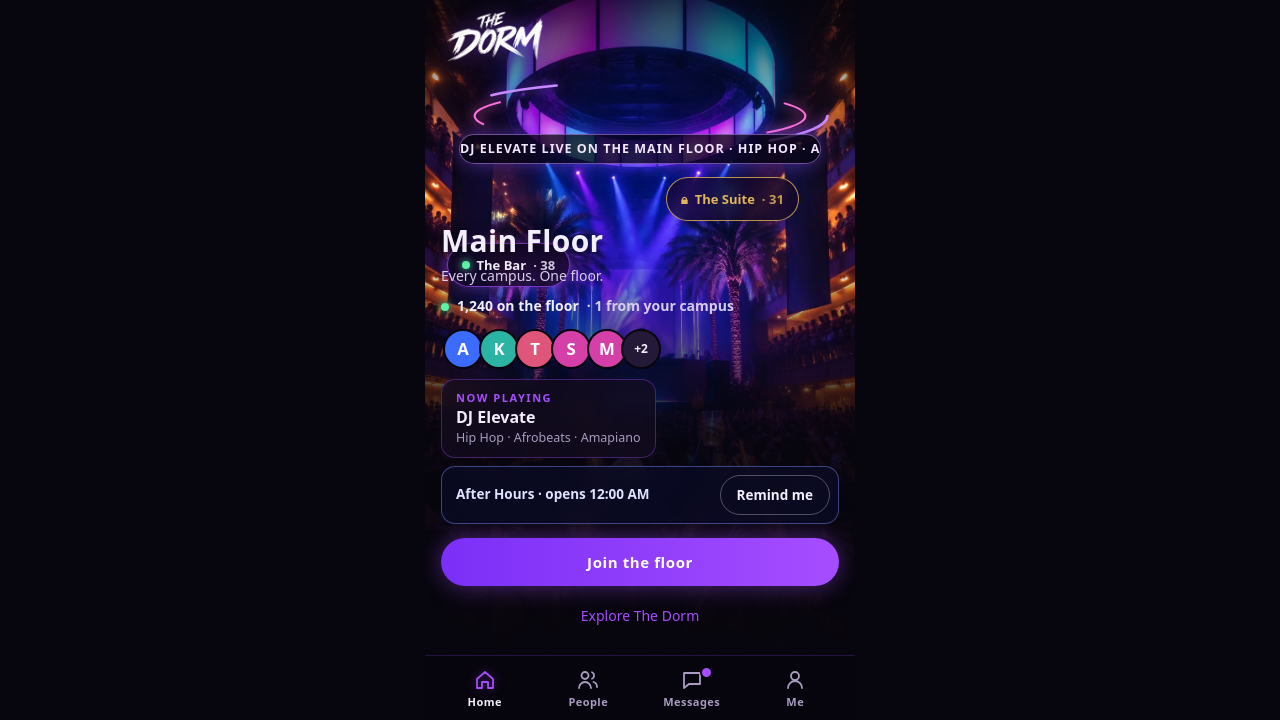
Test: 21+ without a pass: the door sheet says "Entry by guest pass", and age is never the headline
The width and height of the screenshot is (1280, 720).
Click the button "🔒︎ The Suite · 31". click: (732, 199)
box: [666,177,799,221]
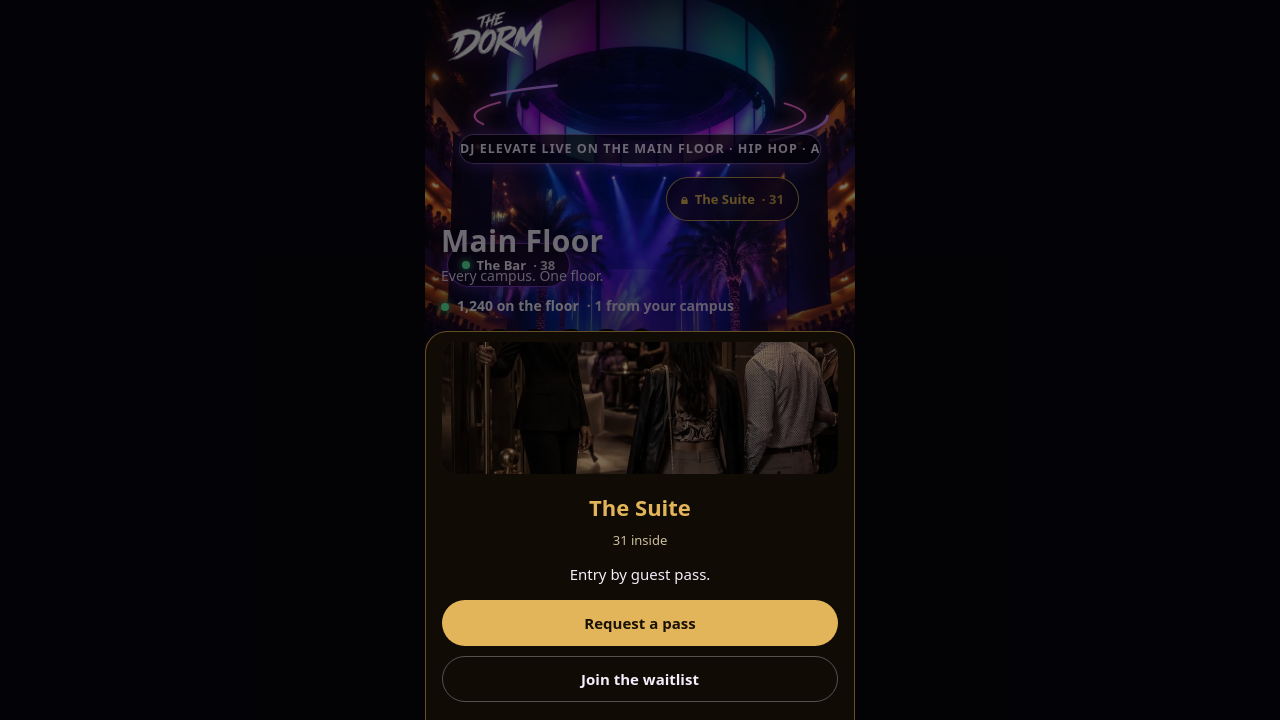
Result: the text "Entry by guest pass." is shown at [570,564,710,586]
